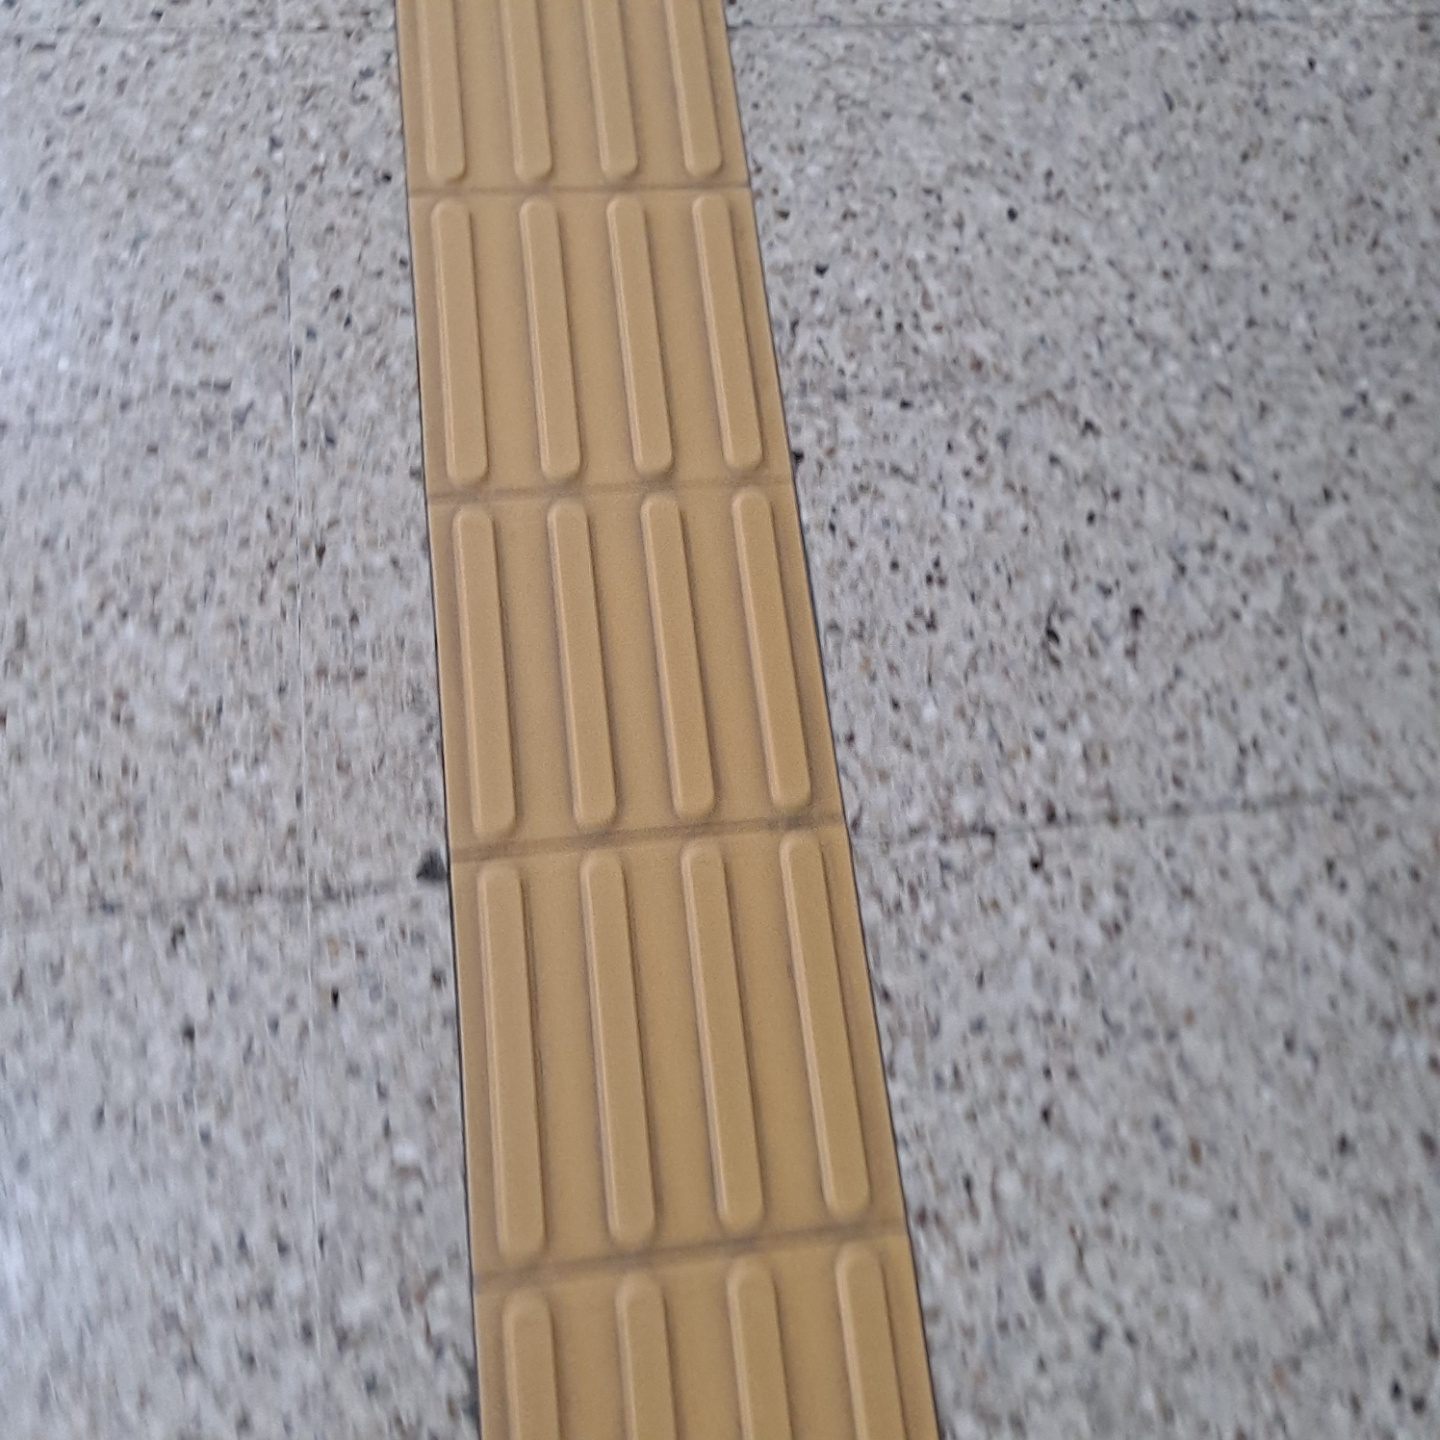guideBlock: (440, 843, 899, 1238), (421, 187, 774, 520), (435, 512, 794, 796), (480, 1263, 986, 1440), (389, 13, 774, 175)
